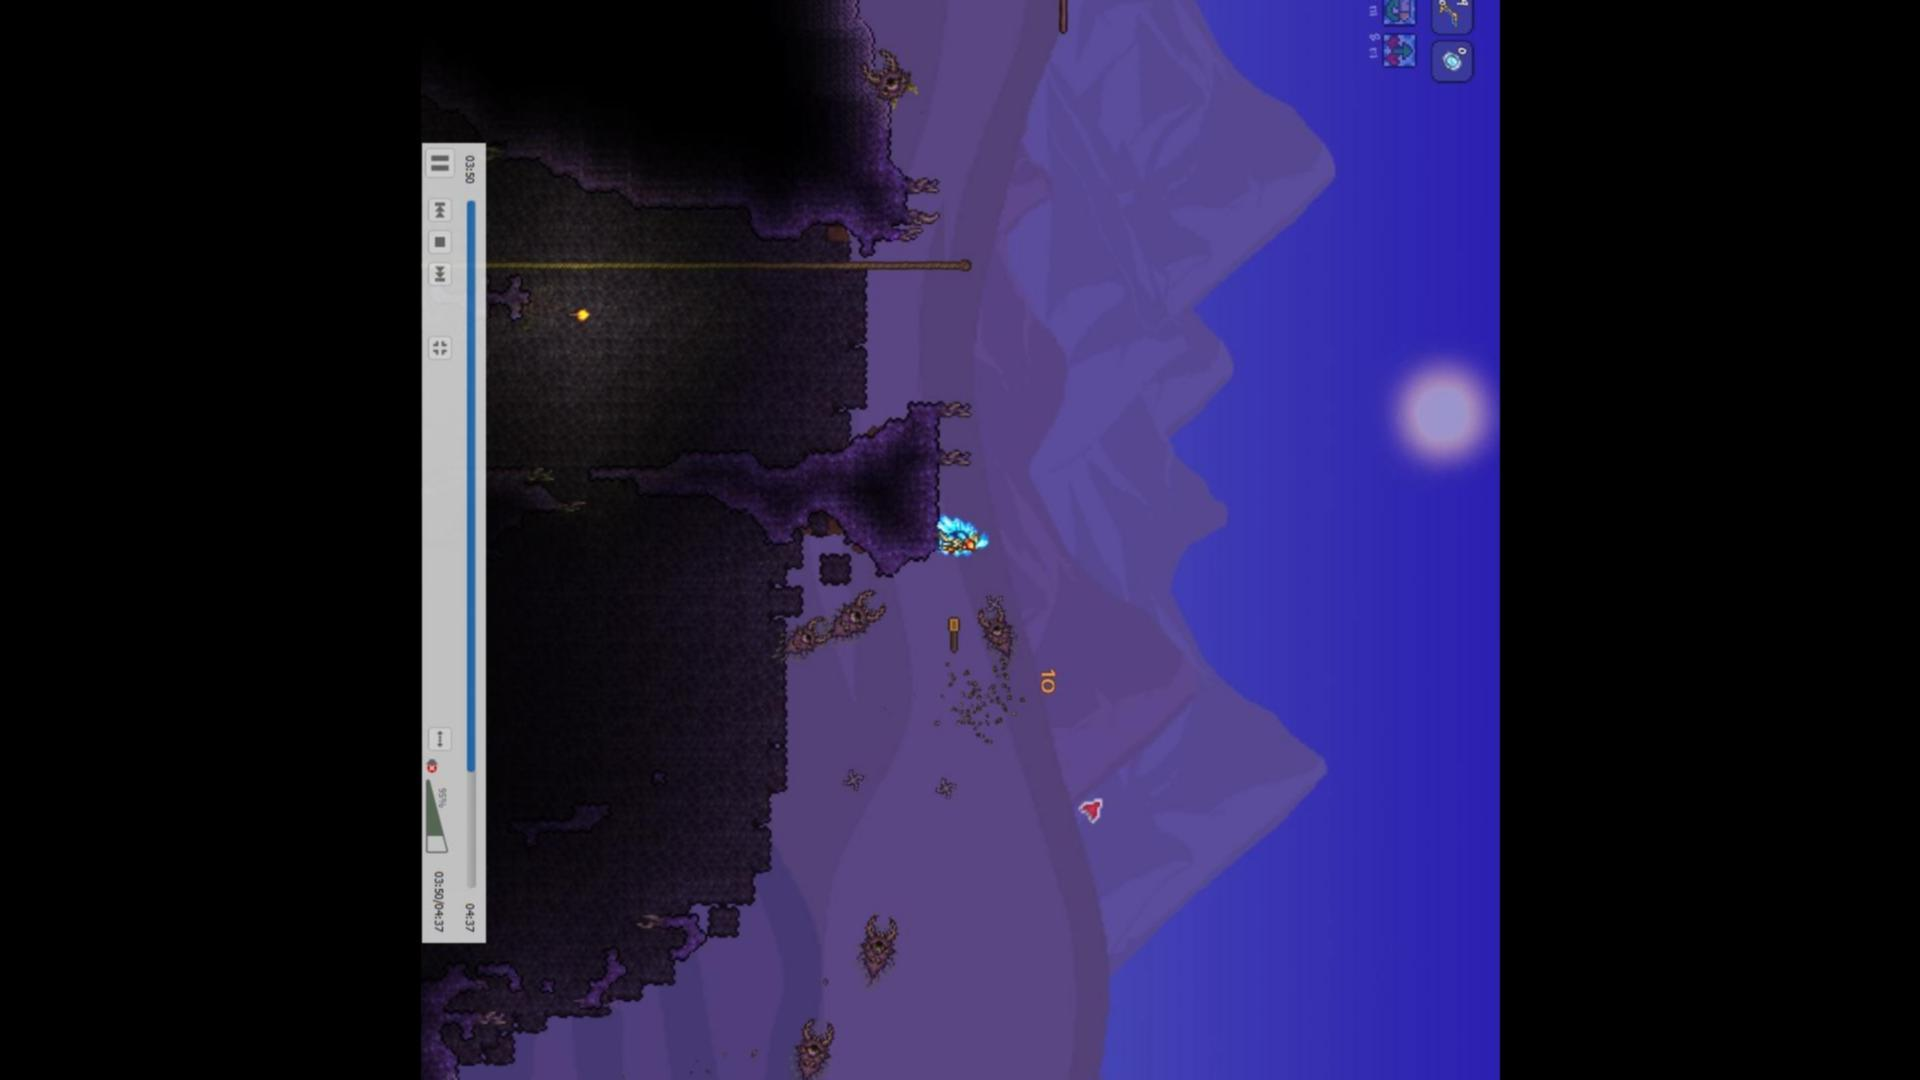crimera: (857, 910, 909, 982), (825, 585, 886, 646), (771, 613, 829, 675), (794, 1015, 840, 1080), (975, 603, 1021, 662)
